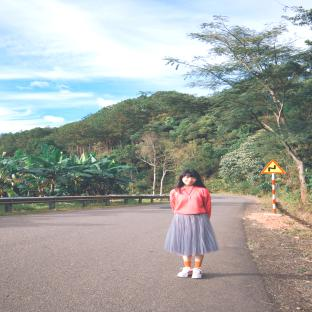Human: (164, 169, 219, 279)
